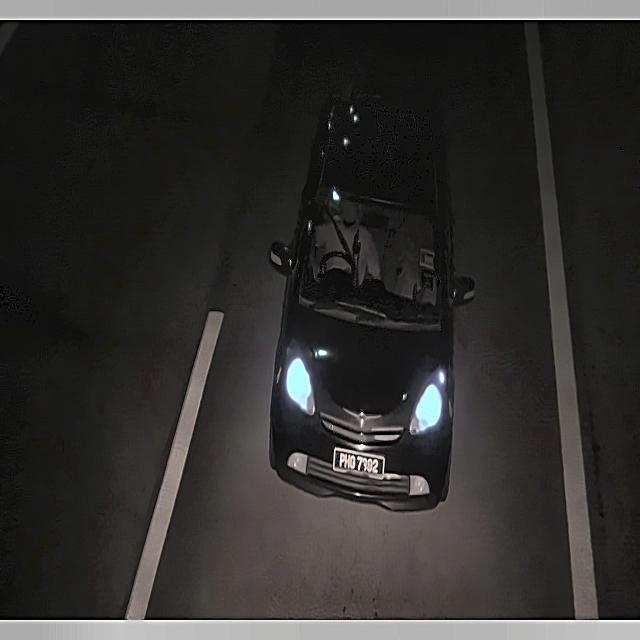car: (330, 443, 388, 483)
